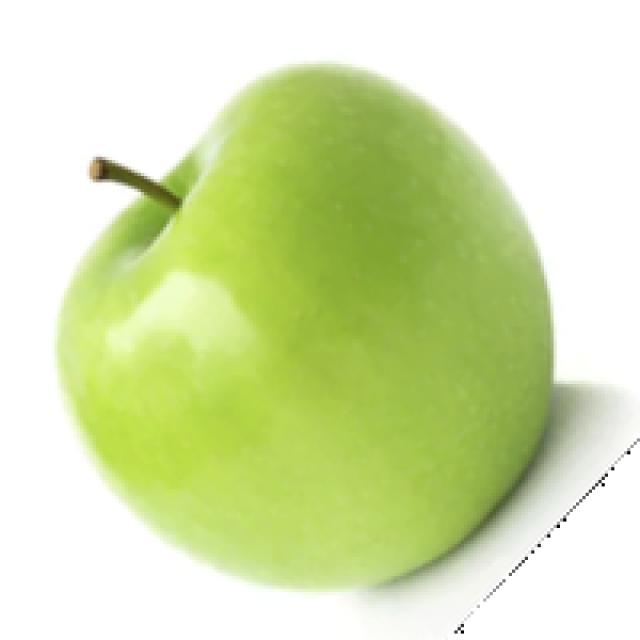apple: (48, 54, 637, 614)
